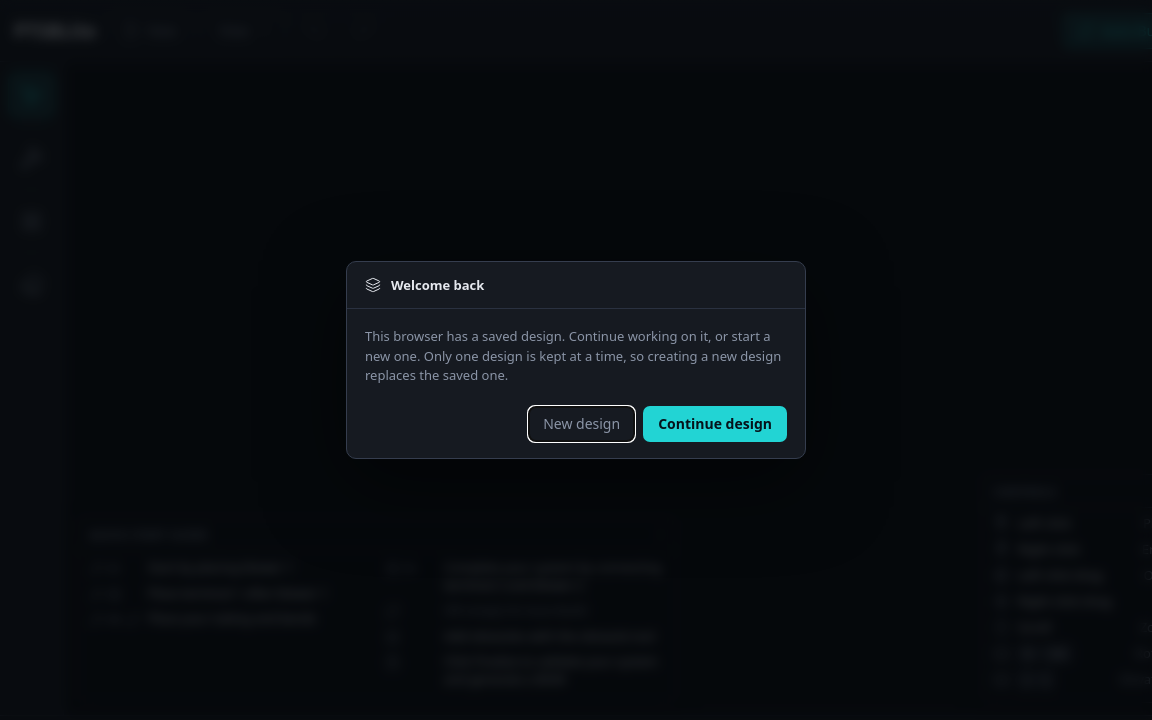
Test: picking up where you left off › confirms before starting a new design, and can be backed out of
The image size is (1152, 720).
Click the button "New design": click(582, 424) [528,406,635,442]
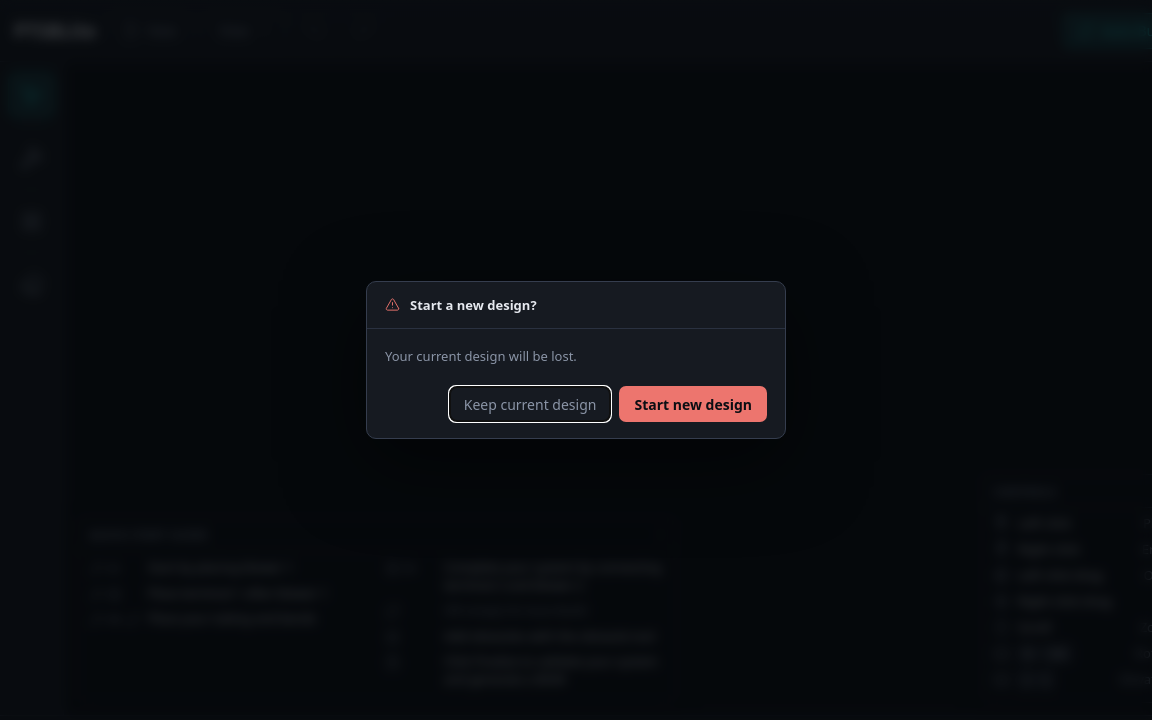
Click the button "Keep current design": click(530, 404) [449,386,611,422]
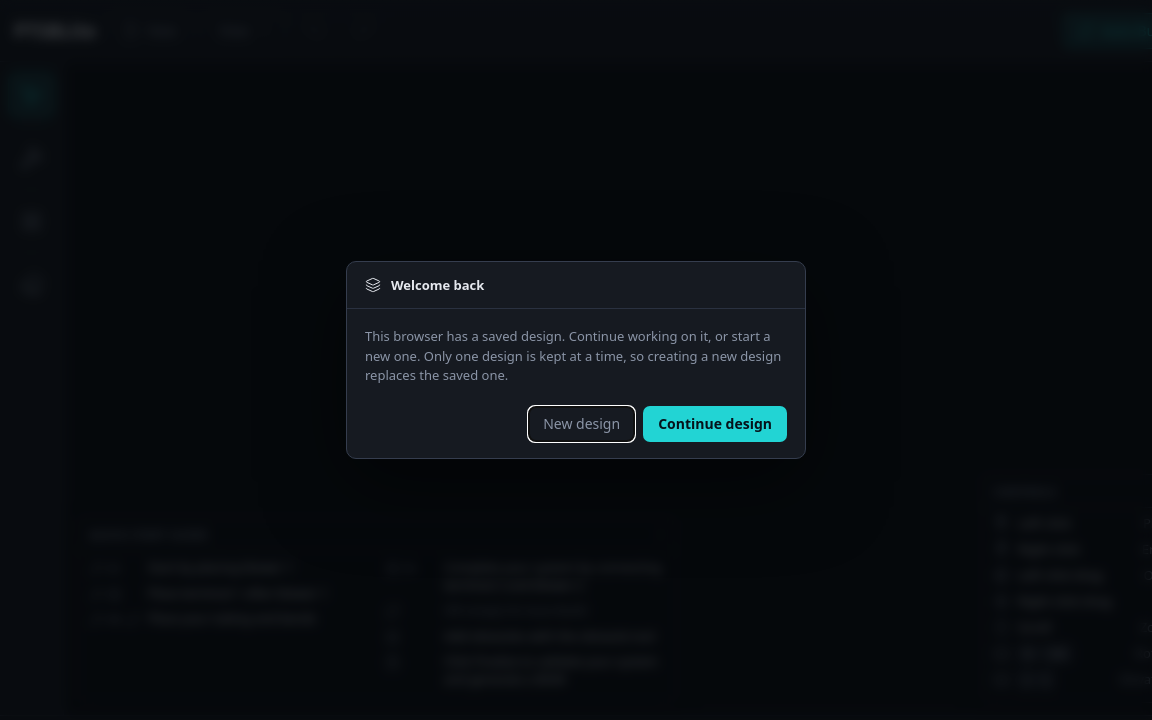
expect the dialog "Welcome back" is shown: met, box [346,261,806,459]
